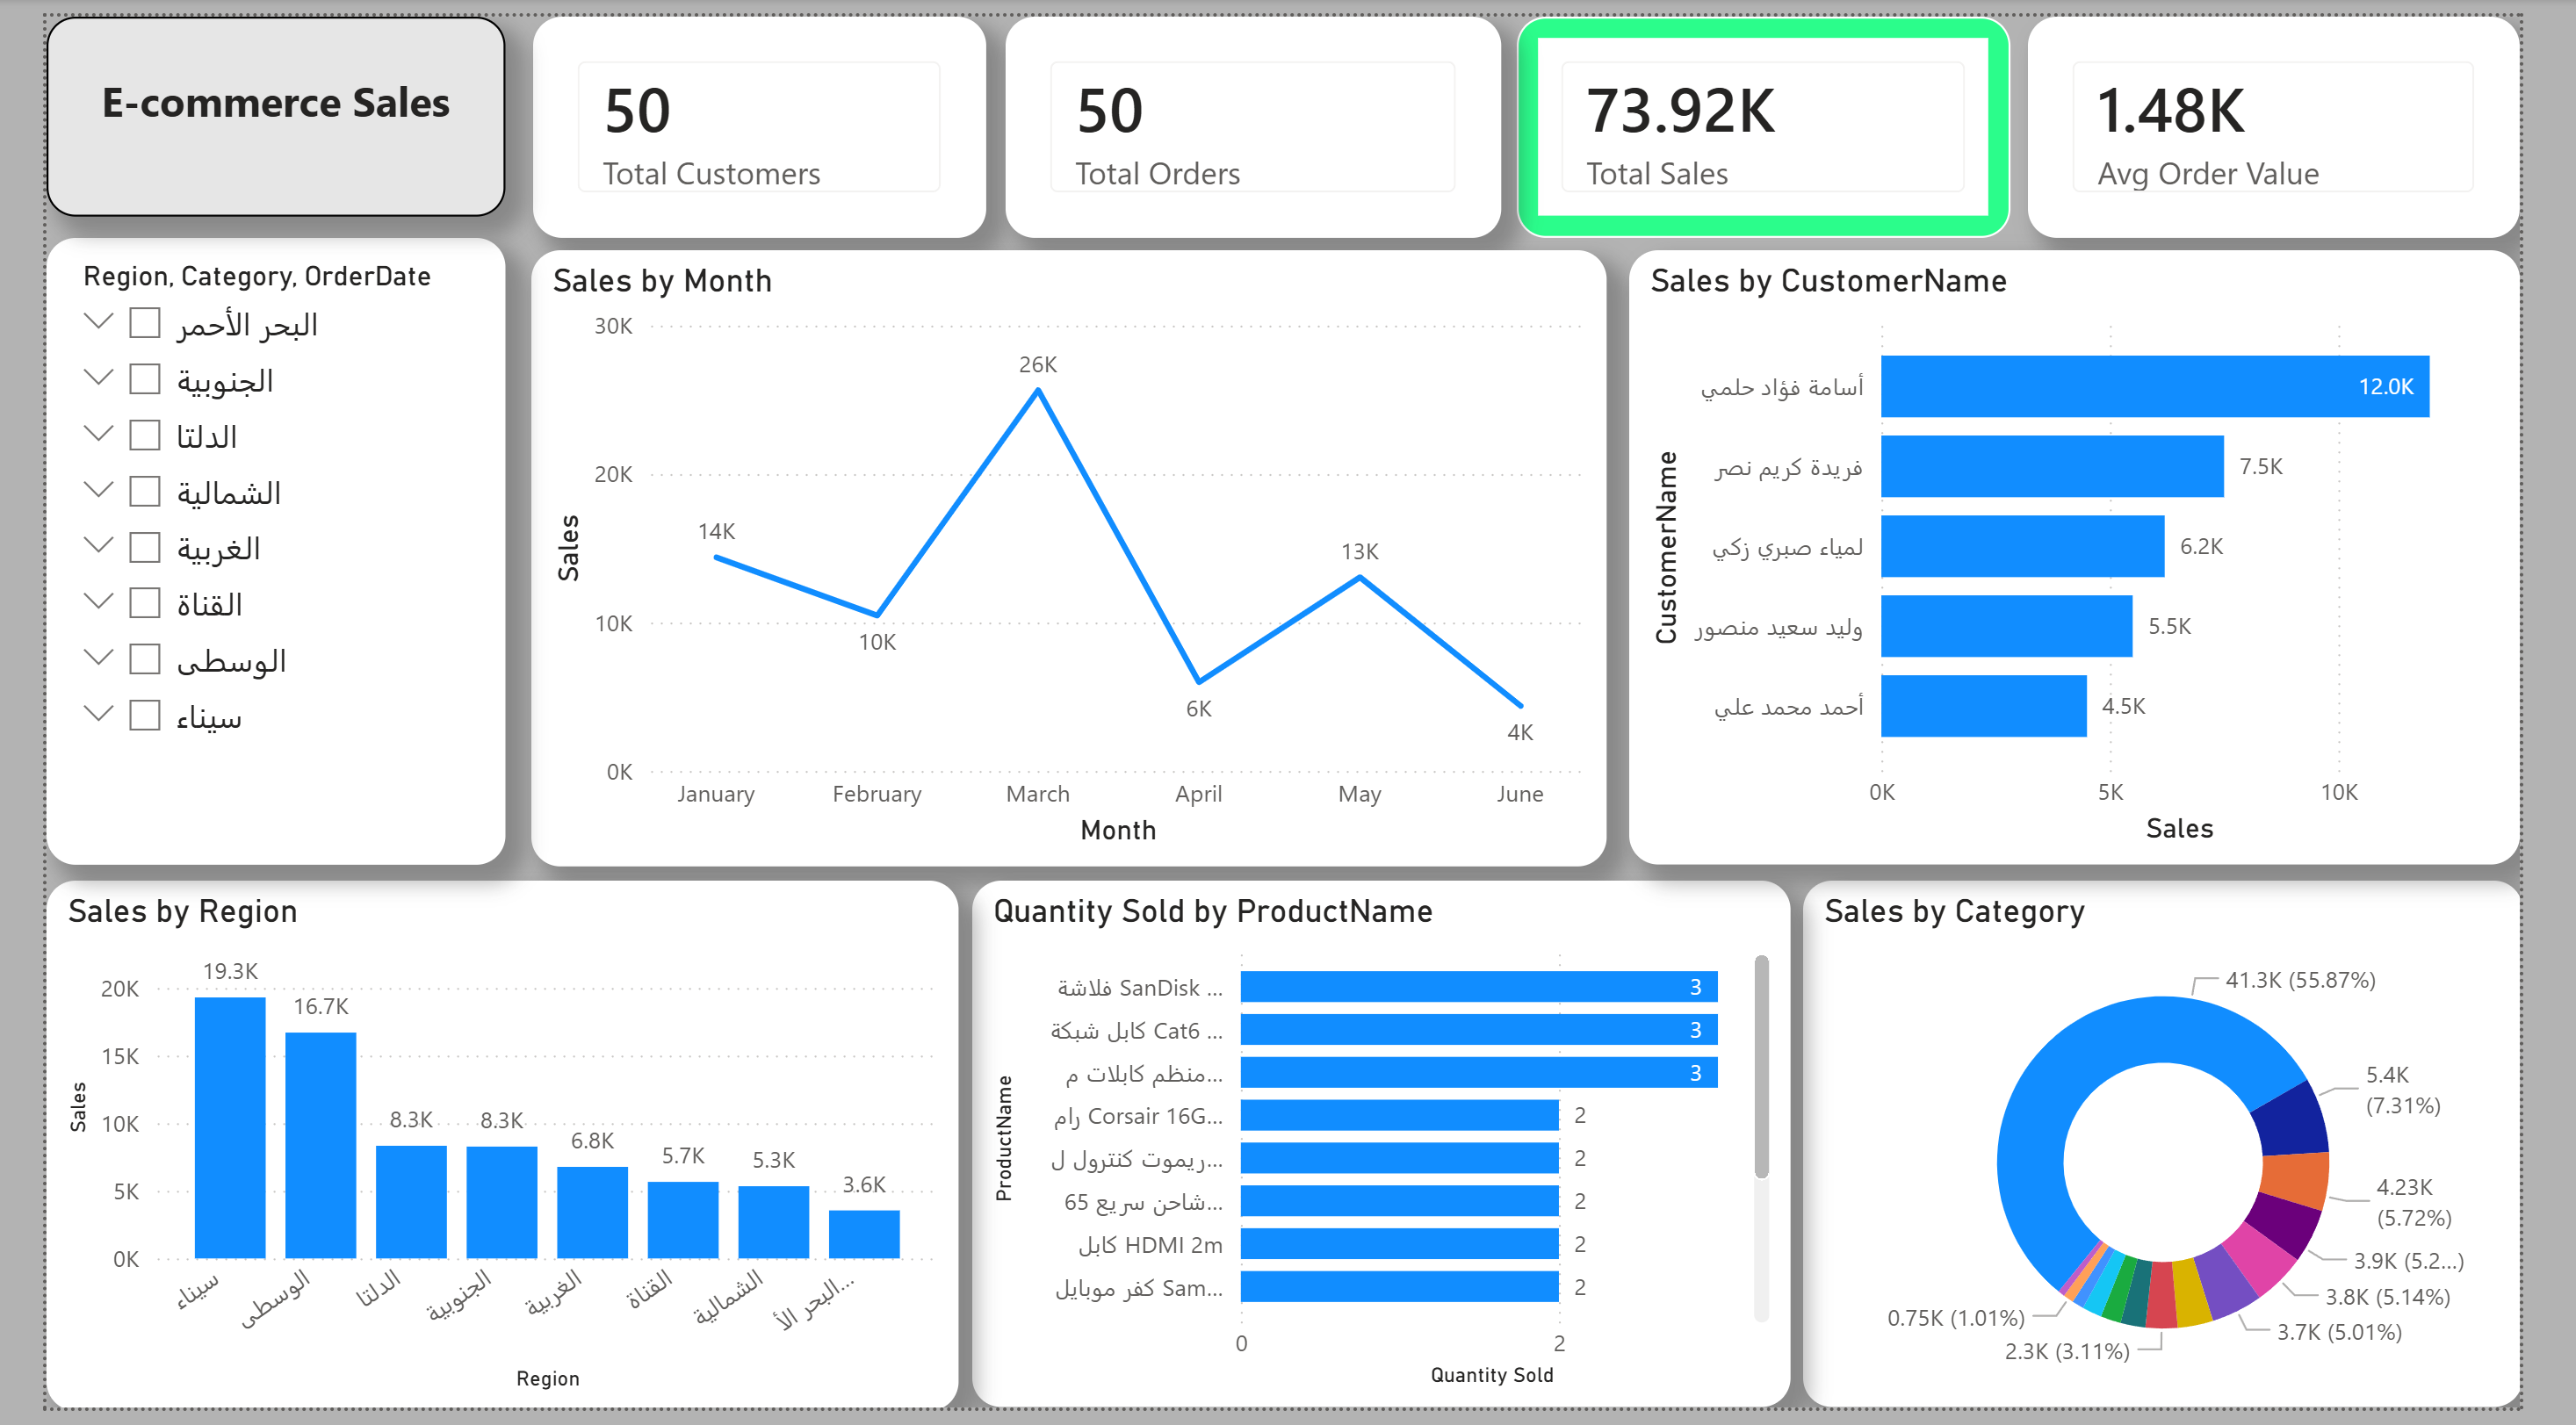

The dashboard page shown, as its layout file describes it:
{"tool":"powerbi","page":{"name":"Dashboard","canvas":[1280,720],"ordinal":0},"visuals":[{"type":"cardVisual","fields":{"Data":["my_store customers.Total Customers"]},"box":[251.8,0,234.5,114.5],"z":0},{"type":"cardVisual","fields":{"Data":["my_store customers.Total Sales"]},"box":[760.9,0,255.5,114.5],"z":1},{"type":"cardVisual","fields":{"Data":["my_store customers.Avg Order Value"]},"box":[1025.5,0,254.5,114.5],"z":2},{"type":"cardVisual","fields":{"Data":["my_store customers.Total Orders"]},"box":[496.4,0,256.4,114.5],"z":3},{"type":"lineChart","fields":{"Y":["my_store customers.Total Sales"],"Category":["my_store orders.OrderDate.Variation.Date Hierarchy.Month"]},"box":[250.9,120.9,556.4,319.1],"z":4},{"type":"donutChart","fields":{"Y":["my_store customers.Total Sales"],"Category":["my_store products.Category"]},"box":[909.1,447.3,372.7,272.7],"z":5},{"type":"barChart","fields":{"Y":["my_store customers.Quantity Sold"],"Category":["my_store products.ProductName"]},"box":[479.1,447.3,423.6,272.7],"z":6},{"type":"columnChart","fields":{"Category":["my_store customers.Region"],"Y":["my_store customers.Total Sales"]},"box":[0,447.2,472.2,274.6],"z":7},{"type":"barChart","fields":{"Y":["my_store customers.Total Sales"],"Category":["my_store customers.CustomerName"]},"box":[819.1,120.9,460.9,318.2],"z":8},{"type":"slicer","fields":{"Values":["my_store customers.Region","my_store products.Category","my_store orders.OrderDate"]},"box":[0,114.5,237.3,324.5],"z":9},{"type":"textbox","box":[0,0,237.3,103.6],"z":10}]}

Visuals, with their boxes in screenshot pixels (x1, y1, x2, y2), scaled from the page's 1280x720 canvas onto the 2576x1425 screenshot:
cardVisual - my_store customers.Total Customers: [x1=507, y1=0, x2=978, y2=227]
cardVisual - my_store customers.Total Sales: [x1=1532, y1=0, x2=2046, y2=227]
cardVisual - my_store customers.Avg Order Value: [x1=2064, y1=0, x2=2575, y2=227]
cardVisual - my_store customers.Total Orders: [x1=999, y1=0, x2=1515, y2=227]
lineChart - my_store customers.Total Sales x my_store orders.OrderDate.Variation.Date Hierarchy.Month: [x1=505, y1=240, x2=1625, y2=871]
donutChart - my_store customers.Total Sales x my_store products.Category: [x1=1829, y1=885, x2=2575, y2=1424]
barChart - my_store customers.Quantity Sold x my_store products.ProductName: [x1=964, y1=885, x2=1816, y2=1424]
columnChart - my_store customers.Region x my_store customers.Total Sales: [x1=0, y1=885, x2=950, y2=1424]
barChart - my_store customers.Total Sales x my_store customers.CustomerName: [x1=1649, y1=240, x2=2575, y2=869]
slicer - my_store customers.Region x my_store products.Category: [x1=0, y1=227, x2=478, y2=869]
textbox: [x1=0, y1=0, x2=478, y2=205]
